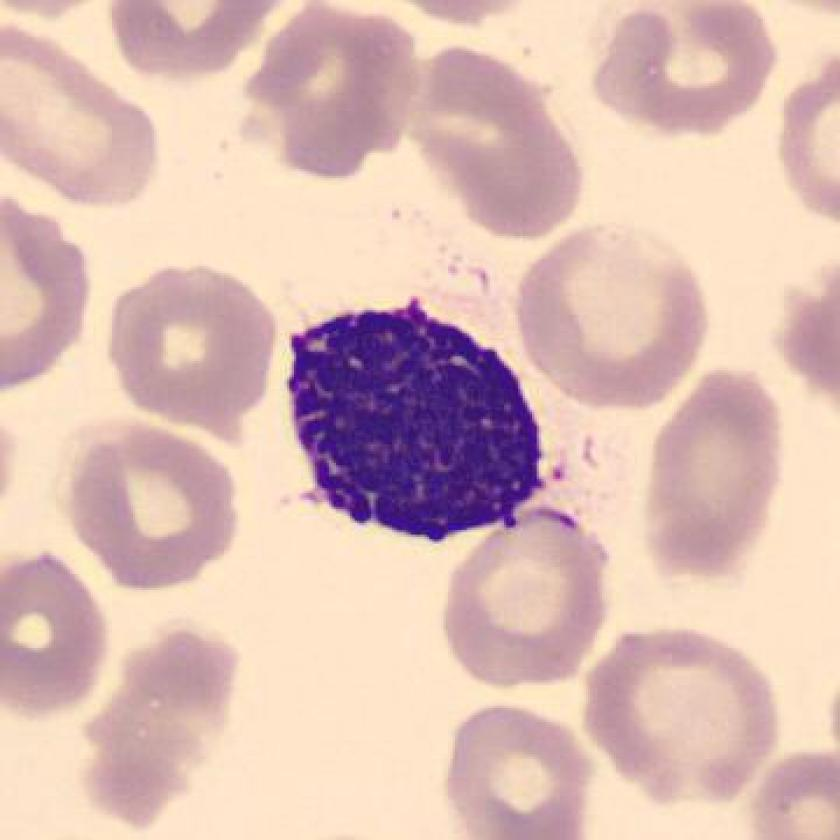basophil: (258, 297, 563, 554)
